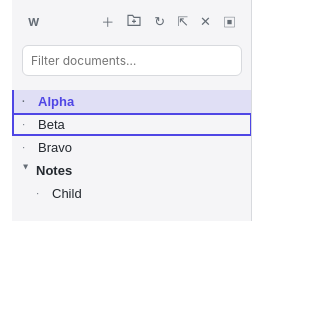
Test case: 파일 메뉴 동작은 원래 행으로 포커스를 돌려주고 정확한 경로를 사용한다
Press F10 in the list item "· Beta", box left=12, top=113, right=252, bottom=136
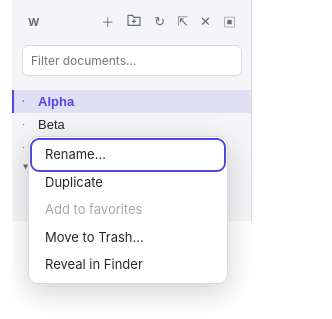
Click the menu item "Reveal in Finder" at (128, 265), box left=33, top=251, right=223, bottom=279
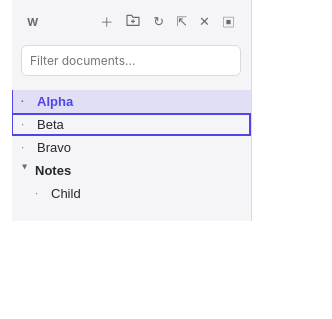
Expected: the menu is gone
